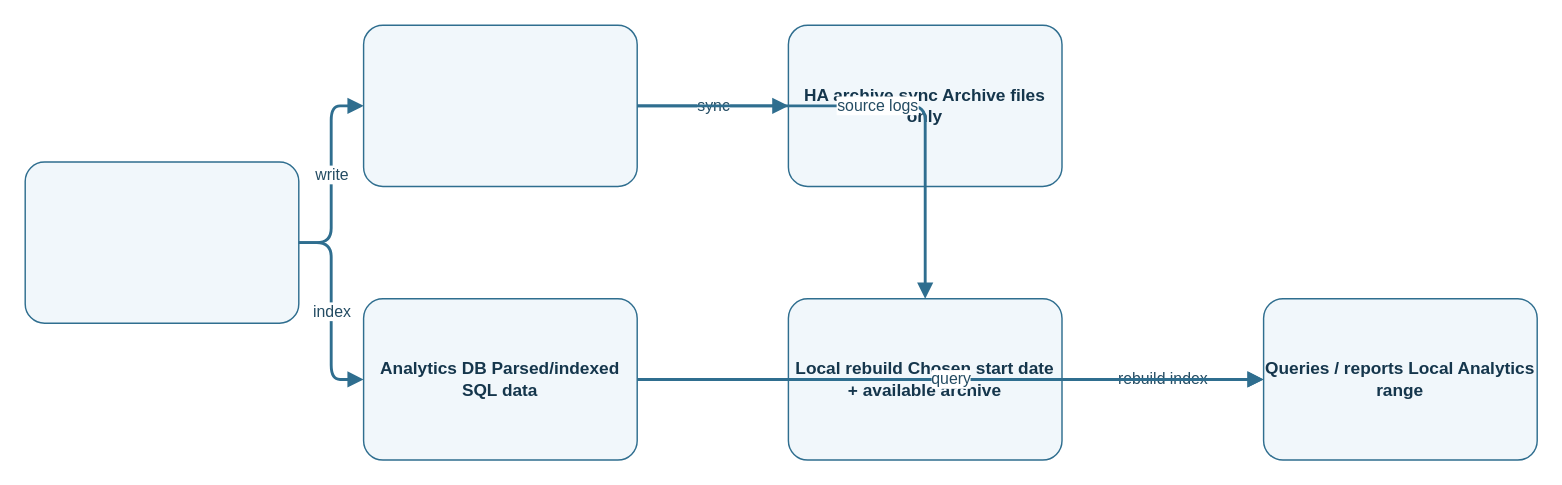
The diagram is 1562 pixels wide and 485 high, and some of its shapes have lost their labels. Each missing label, with the centre of its shape:
Archive store Raw compressed log files: (x=499, y=105)
Incoming logs Device log stream: (x=161, y=242)
